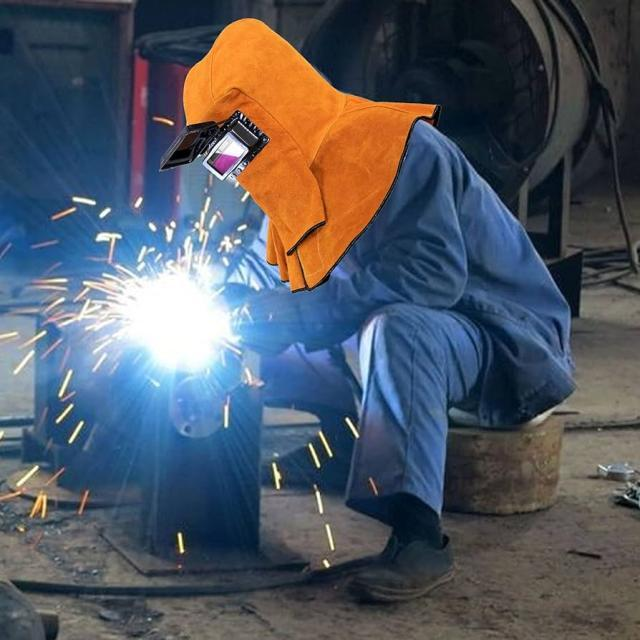with_helmet: (161, 23, 578, 440)
